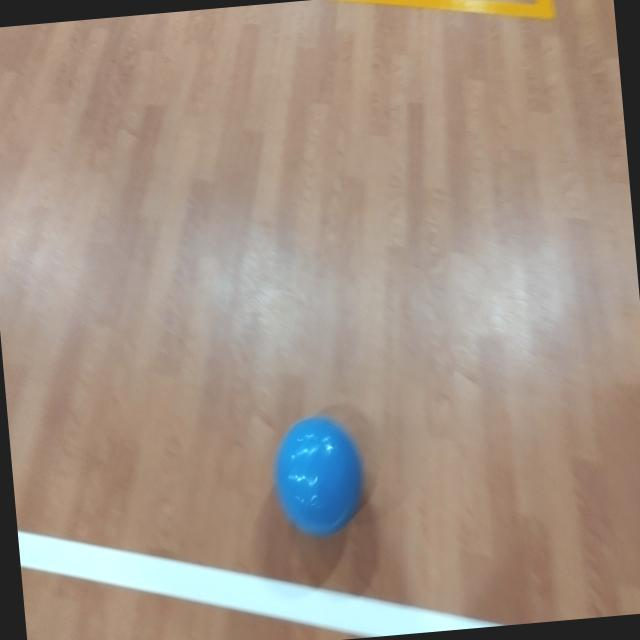blue_ball: (271, 411, 372, 542)
